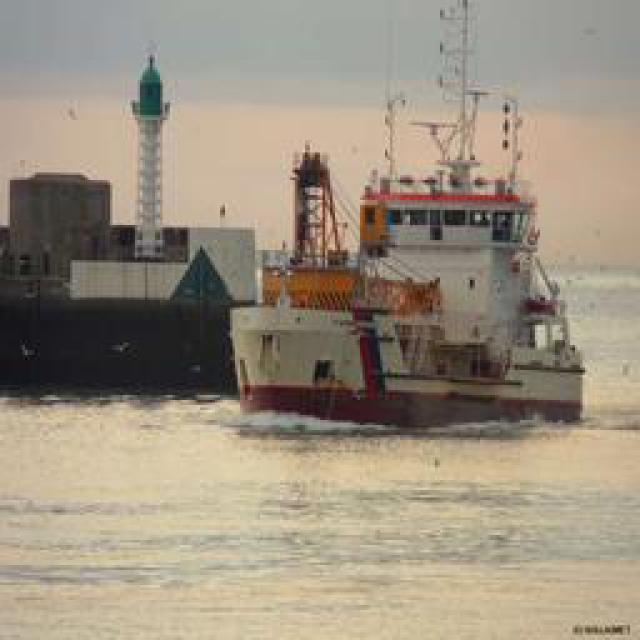Ship: (214, 18, 598, 449)
